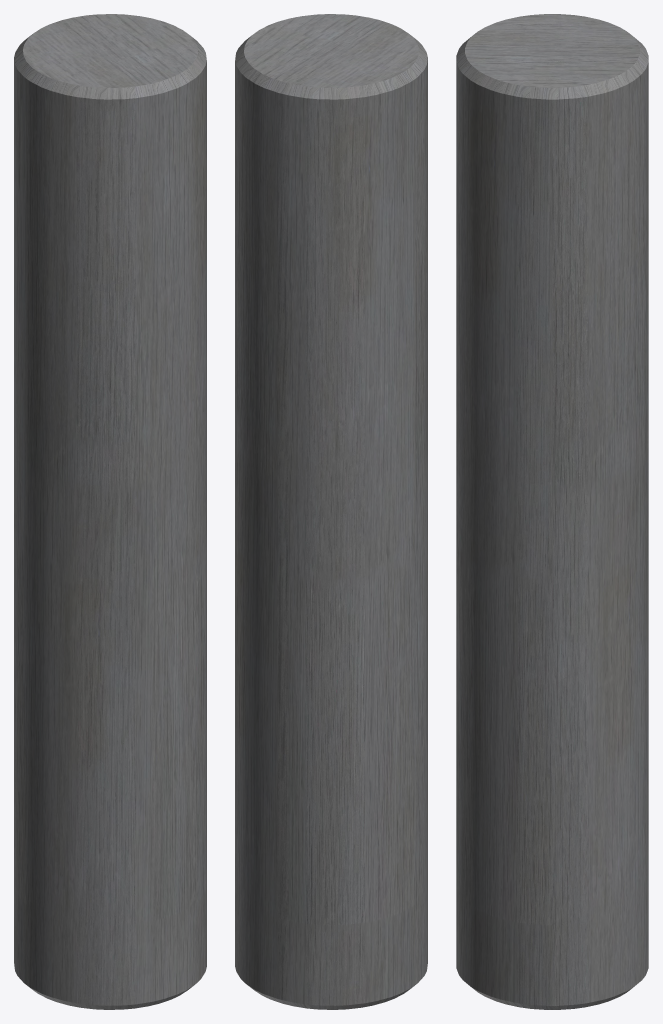
File: tether.fbx
3 views of the same model, side by side, from view 1: azimuth 30°, elevation 25°; view 2: azimuth 150°, elevation 25°; view 3: azimuth 270°, elevation 25° (orthographic).
Visible parts, largest first — view 1: pCylinder1; view 2: pCylinder1; view 3: pCylinder1.
Boxes of the visible parts, box(x1,y1,x2,y2) form: pCylinder1: box(14, 14, 206, 1009); pCylinder1: box(235, 14, 427, 1009); pCylinder1: box(456, 14, 648, 1009).
Size of the model in its own units: 1.98 by 10.46 by 1.98.
